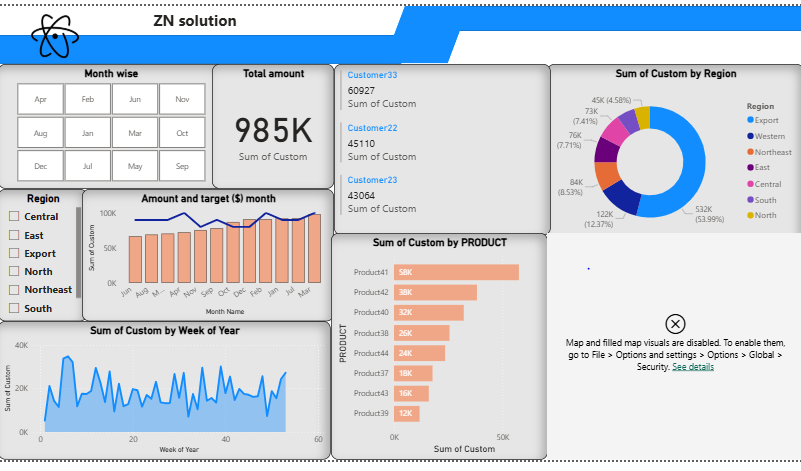

This screenshot's page, from the dashboard's own definition file:
{"tool":"powerbi","page":{"name":"Page 1","canvas":[1280,720],"ordinal":0},"visuals":[{"type":"slicer","title":"Month wise","fields":{"Values":["InputData.Month Name"]},"box":[0,92,358,198],"z":0},{"type":"slicer","title":"Region","fields":{"Values":["Country.Region"]},"box":[0,290,142,210],"z":1000},{"type":"areaChart","fields":{"Category":["InputData.Week of Year"],"Y":["Sum(InputData.Custom)"]},"box":[0,500,528,220],"z":2000},{"type":"card","title":"Total amount","fields":{"Values":["Sum(InputData.Custom)"]},"box":[340,92,194,198],"z":3000},{"type":"lineStackedColumnComboChart","title":"Amount and target ($) month","fields":{"Y":["Sum(InputData.Custom)"],"Category":["TargetData.Month Name"],"Y2":["Sum(TargetData.Target ($))"]},"box":[134,290,400,210],"z":4000},{"type":"donutChart","fields":{"Category":["Country.Region"],"Y":["Sum(InputData.Custom)"]},"box":[872,92,408,292],"z":5000},{"type":"multiRowCard","fields":{"Values":["Sum(InputData.Custom)","Country.Customer Name"]},"box":[534,92,344,272],"z":6000},{"type":"barChart","fields":{"Category":["InputData.PRODUCT","InputData.CUSTOMER NAME"],"Y":["Sum(InputData.Custom)"]},"box":[528,360,344,360],"z":7000},{"type":"map","fields":{"Series":["Country.Region"],"Category":["Country.Country"]},"box":[872,360,408,360],"z":8000},{"type":"shape","box":[706.3,0,573,39.7],"z":9000},{"type":"shape","box":[0,45.7,640,45.7],"z":10000},{"type":"shape","box":[611.4,0,137.1,91.4],"z":11000},{"type":"textbox","box":[169.8,0,285.7,46],"z":12000},{"type":"image","box":[47.5,0,86.4,95],"z":13000}]}

Visuals, with their boxes in screenshot pixels (x1, y1, x2, y2):
"Month wise" slicer: 0/61/219/188
"Region" slicer: 0/188/80/322
areaChart - InputData.Week of Year x Sum(InputData.Custom): 0/322/327/463
"Total amount" card: 207/61/331/188
"Amount and target ($) month" lineStackedColumnComboChart: 75/188/331/322
donutChart - Country.Region x Sum(InputData.Custom): 547/61/800/248
multiRowCard - Sum(InputData.Custom) x Country.Customer Name: 331/61/551/235
barChart - InputData.PRODUCT x InputData.CUSTOMER NAME: 327/232/547/463
map - Country.Region x Country.Country: 547/232/800/463
shape: 441/2/800/27
shape: 0/31/399/61
shape: 381/2/468/61
textbox: 98/2/281/32
image: 20/2/75/63
